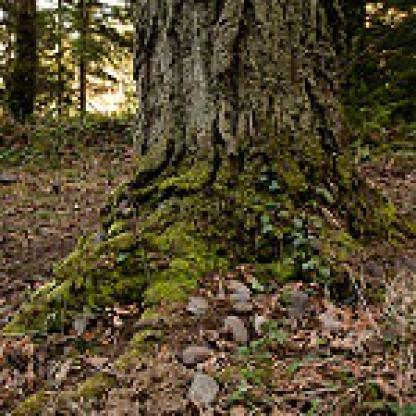trunk: (22, 0, 413, 347), (74, 0, 92, 117), (52, 0, 67, 120)
